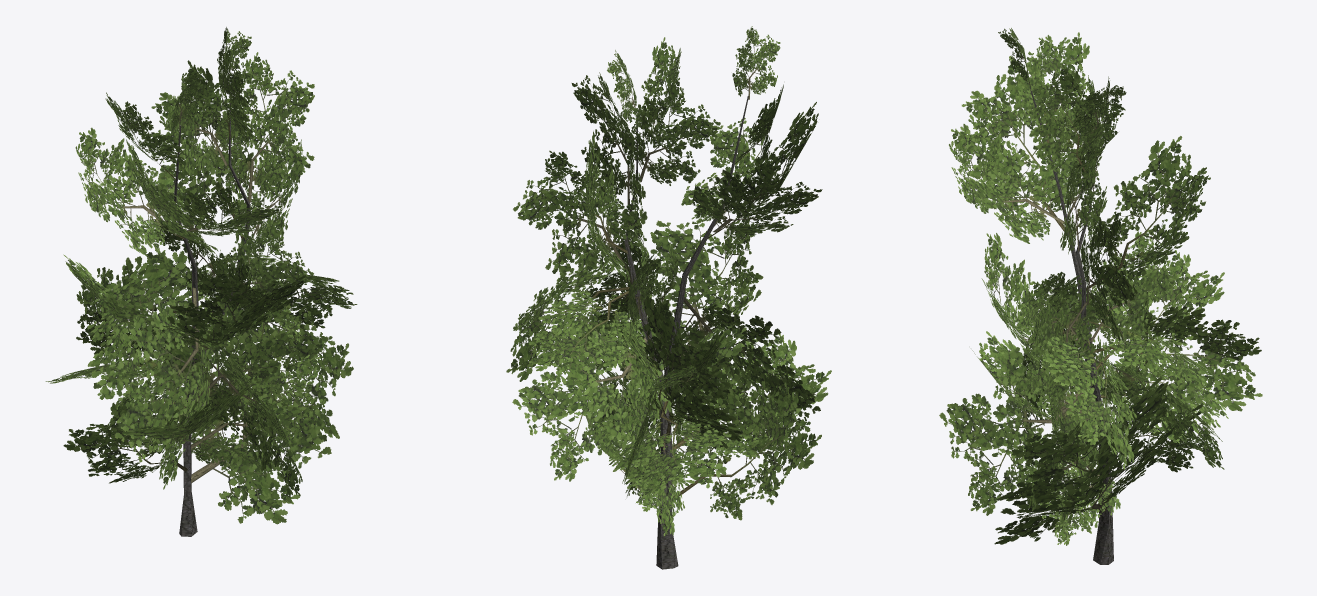
The model's file is Tree-03-4.gltf.
3 views of the same model, side by side, from view 1: azimuth 30°, elevation 25°; view 2: azimuth 150°, elevation 25°; view 3: azimuth 270°, elevation 25° (orthographic). The views are drawn at different scales.
Visible parts, largest first — view 1: Tree-03-4; view 2: Tree-03-4; view 3: Tree-03-4.
Boxes of the visible parts, x1,y1,x2,y2 form: Tree-03-4: (45,27,357,536); Tree-03-4: (506,26,831,569); Tree-03-4: (939,28,1262,564).
Size of the model in its own units: 4.59 by 6.41 by 4.37.
Materials: 3 (3 with a texture image).
